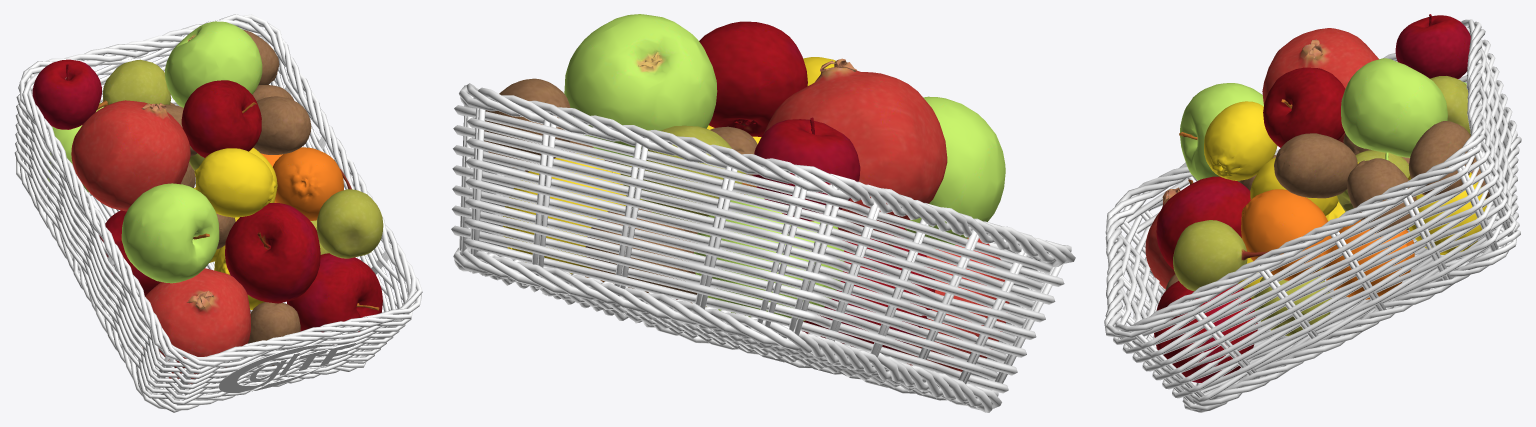
The model's file is CompareAmbientOcclusionRight.glb.
3 views of the same model, side by side, from view 1: azimuth 30°, elevation 25°; view 2: azimuth 150°, elevation 25°; view 3: azimuth 270°, elevation 25° (orthographic). The views are drawn at different scales.
Visible parts, largest first — view 1: FruitRight, BasketRight, LogoRight; view 2: BasketRight, FruitRight; view 3: FruitRight, BasketRight.
Part boxes in pixels (<box>): FruitRight: <box>32,21,383,383</box>; BasketRight: <box>14,14,422,412</box>; LogoRight: <box>218,342,356,392</box>; BasketRight: <box>451,83,1075,412</box>; FruitRight: <box>484,14,1009,371</box>; FruitRight: <box>1145,14,1490,382</box>; BasketRight: <box>1104,19,1521,412</box>.
Size of the model in its own units: 0.295 by 0.31 by 0.367.
3 materials, 1 textured.
